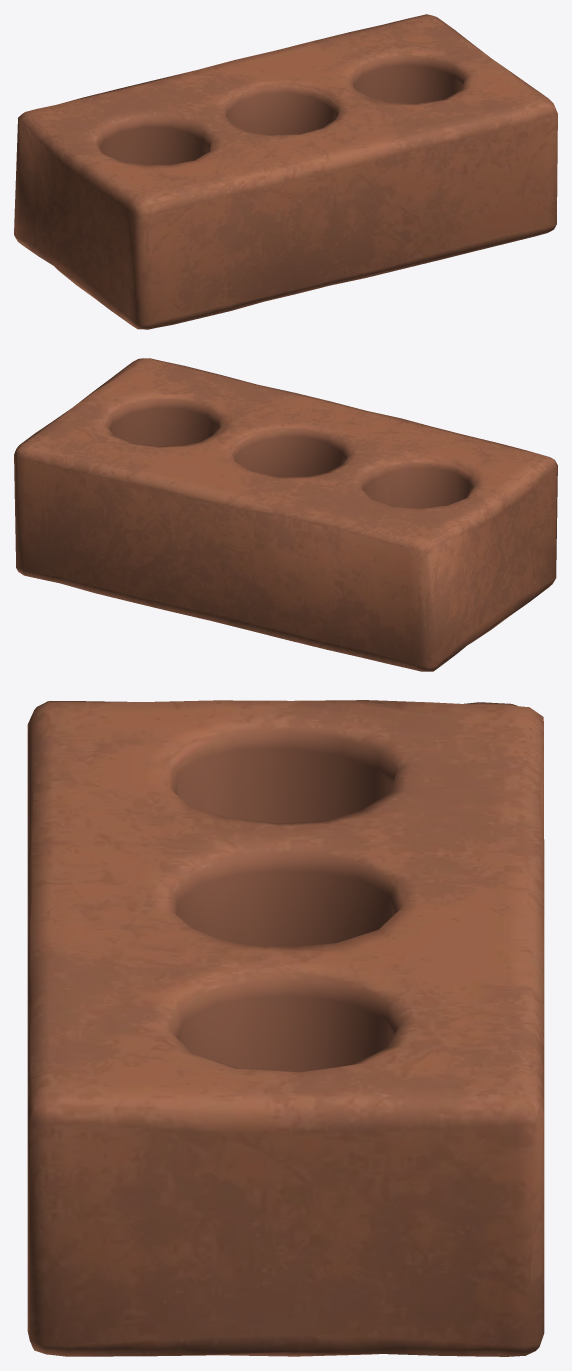
Rendered from Brick_one.glb.
3 views of the same model, one above another, from view 1: azimuth 30°, elevation 25°; view 2: azimuth 150°, elevation 25°; view 3: azimuth 270°, elevation 25° (orthographic). The views are drawn at different scales.
Parts seen in each view (by area): view 1: Retopo_Cube.004; view 2: Retopo_Cube.004; view 3: Retopo_Cube.004.
Boxes of the visible parts, x1,y1,x2,y2 form: Retopo_Cube.004: (14, 14, 557, 329); Retopo_Cube.004: (14, 358, 557, 671); Retopo_Cube.004: (27, 700, 544, 1356).
Bounding box in the file's own units: 1.07 × 0.3127 × 0.5671.
Materials: 1 (1 with a texture image).
